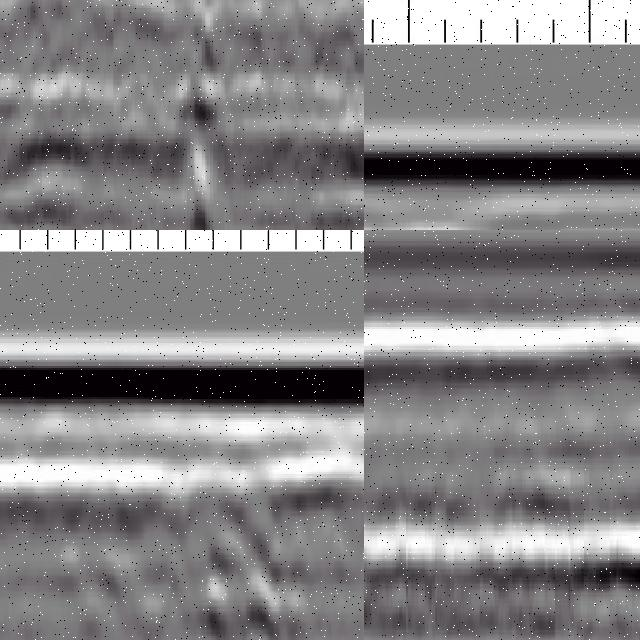crack: (186, 1, 223, 231)
loose: (88, 462, 310, 635)
